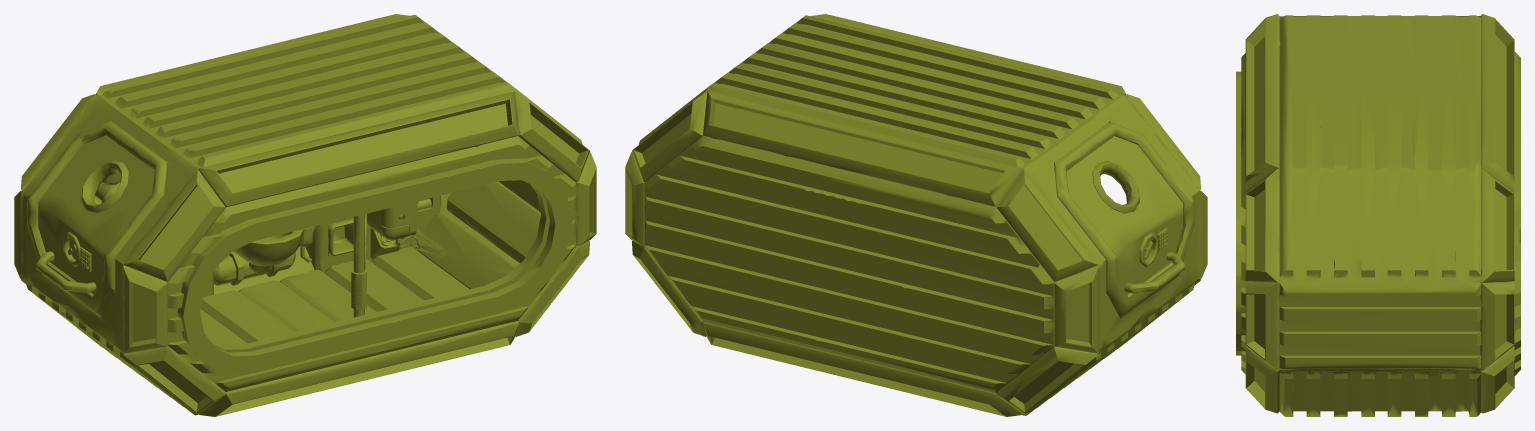
File: pod2.glb
3 renders of one model, left to right at view 1: azimuth 30°, elevation 25°; view 2: azimuth 150°, elevation 25°; view 3: azimuth 270°, elevation 25°, orthographic.
Parts seen in each view (by area): view 1: skfb_offset; view 2: skfb_offset; view 3: skfb_offset.
Boxes of the visible parts, x1,y1,x2,y2 form: skfb_offset: (14, 14, 596, 416); skfb_offset: (625, 14, 1207, 416); skfb_offset: (1236, 14, 1520, 416).
Bounding box in the file's own units: 5367 × 2649 × 2701.
